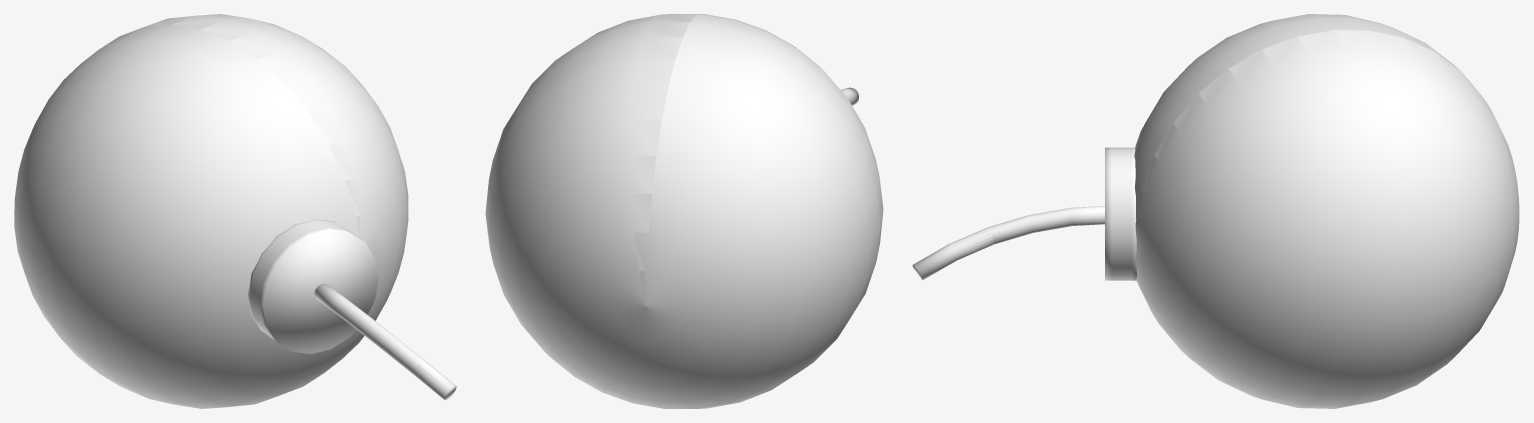
File: Bomb.obj
3 views of the same model, side by side, from view 1: azimuth 30°, elevation 25°; view 2: azimuth 150°, elevation 25°; view 3: azimuth 270°, elevation 25° (orthographic).
Visible parts, largest first — view 1: Sphere01, Cylinder01, Cylinder02; view 2: Sphere01; view 3: Sphere01, Cylinder01, Cylinder02.
Boxes of the visible parts, bbox=[...] form: Sphere01: bbox=[14, 14, 408, 408]; Cylinder01: bbox=[248, 219, 378, 353]; Cylinder02: bbox=[314, 283, 456, 400]; Sphere01: bbox=[485, 14, 883, 408]; Sphere01: bbox=[1134, 14, 1519, 408]; Cylinder01: bbox=[1105, 147, 1137, 280]; Cylinder02: bbox=[912, 206, 1104, 280].
Bounding box in the file's own units: 241 × 241 × 370.
Materials: 3 (3 with a texture image).
